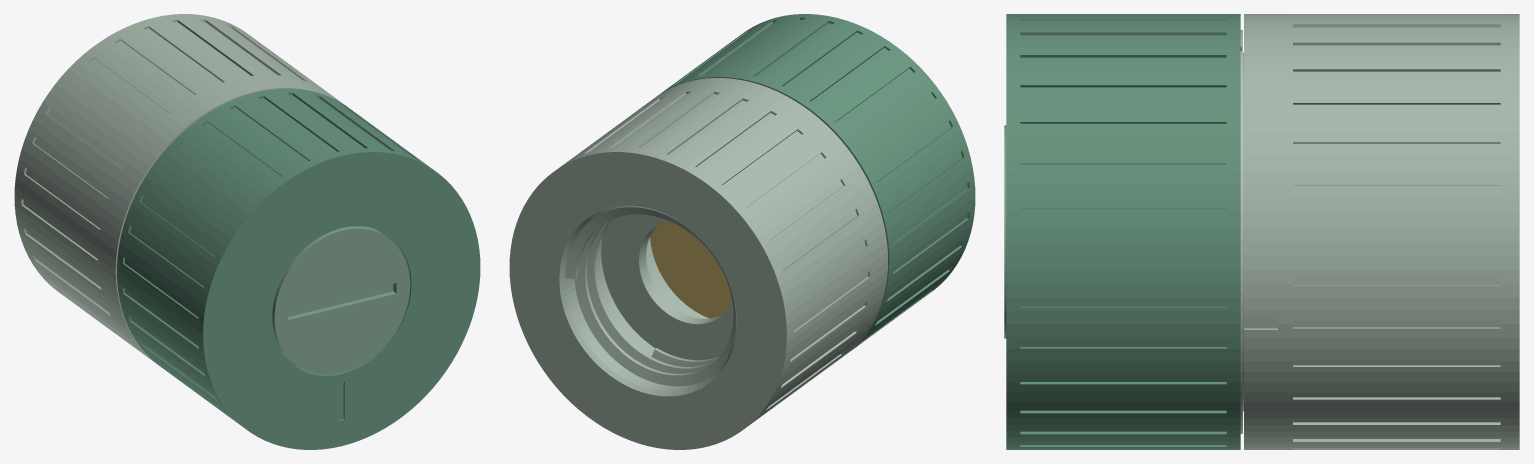
Rendered from LiftMix_v3_open.glb.
3 renders of one model, left to right at view 1: azimuth 30°, elevation 25°; view 2: azimuth 150°, elevation 25°; view 3: azimuth 270°, elevation 25°, orthographic. The views are drawn at different scales.
Parts seen in each view (by area): view 1: twist_crown, body, top_retainer; view 2: body, twist_crown, plunger; view 3: body, twist_crown, guide_lid, top_retainer.
Part boxes in pixels (x1,y1,x2,y2): twist_crown: (117,89,480,449); body: (14,14,345,362); top_retainer: (272,226,410,374); body: (509,78,887,449); twist_crown: (659,14,975,351); plunger: (650,221,731,318); body: (1243,14,1519,449); twist_crown: (1006,14,1240,449); guide_lid: (1240,30,1242,433); top_retainer: (1004,125,1006,338).
Bounding box in the file's own units: 46.2 × 46.2 × 54.6.
